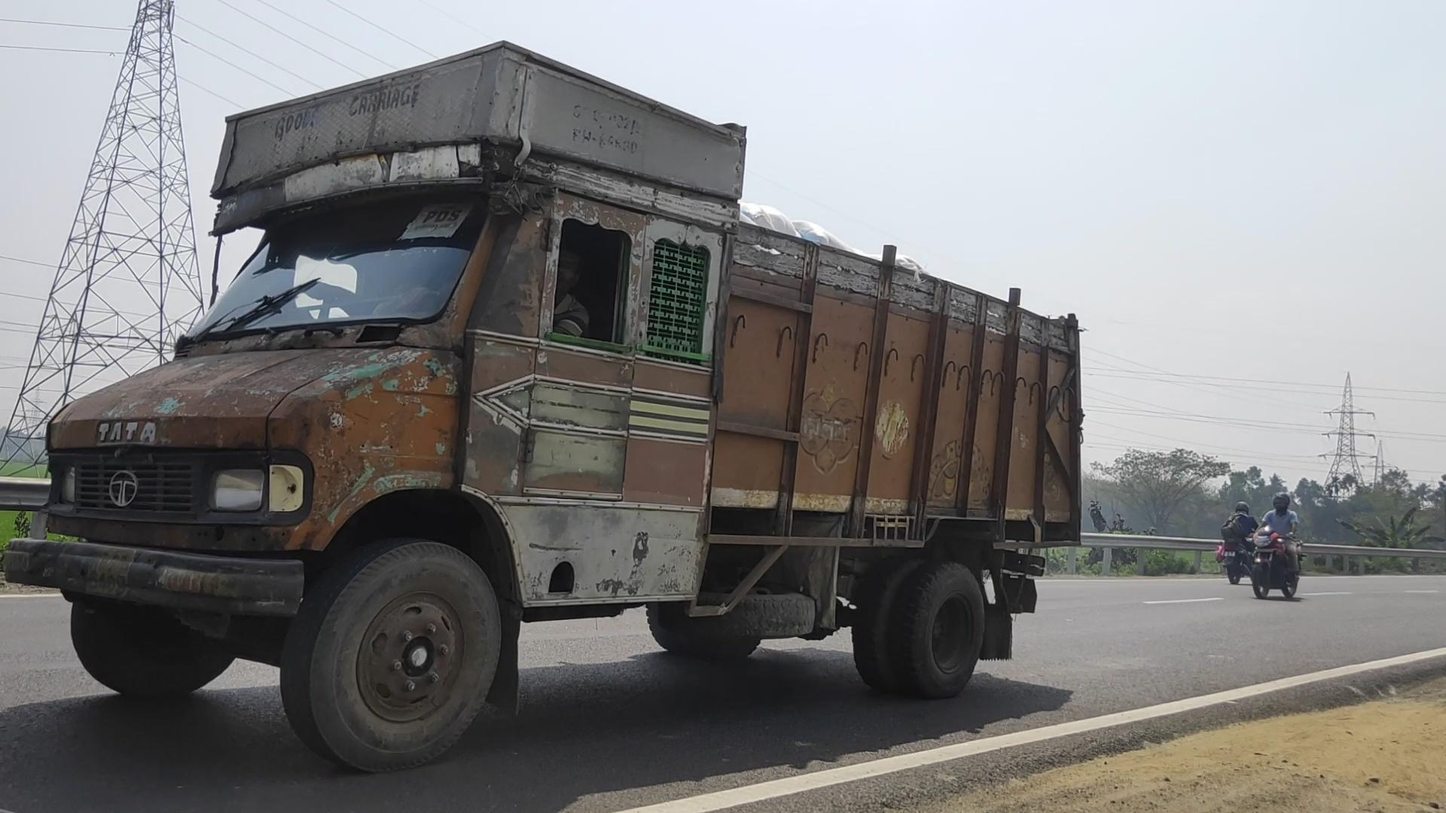bike: (1245, 492, 1306, 598), (1217, 501, 1272, 586)
truck: (13, 39, 1084, 776)
